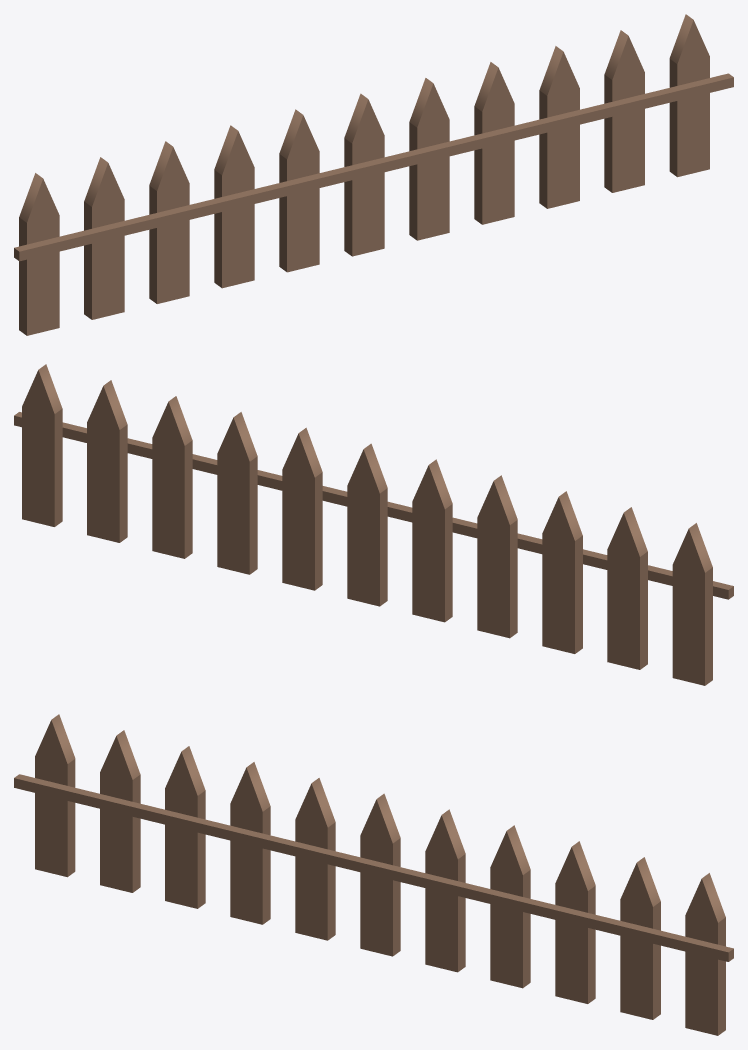
The model's file is Fences2.fbx.
The picture shows the model from 3 angles, top to bottom: view 1: azimuth 30°, elevation 25°; view 2: azimuth 150°, elevation 25°; view 3: azimuth 330°, elevation 25°; orthographic projection.
Parts seen in each view (by area): view 1: pCube24, pCube13, pCube18, pCube16, pCube17, pCube19, pCube15, pCube20, pCube21, pCube22, pCube23, pCube14; view 2: pCube15, pCube22, pCube13, pCube16, pCube18, pCube21, pCube23, pCube17, pCube19, pCube20, pCube14, pCube24; view 3: pCube24, pCube18, pCube20, pCube14, pCube17, pCube19, pCube13, pCube21, pCube15, pCube16, pCube23, pCube22.
Part boxes in pixels (x1,y1,x2,y2): pCube24: [14, 73, 733, 261]; pCube13: [19, 173, 59, 335]; pCube18: [344, 93, 384, 256]; pCube16: [214, 125, 254, 288]; pCube17: [279, 109, 319, 272]; pCube19: [409, 78, 449, 240]; pCube15: [149, 141, 189, 303]; pCube20: [474, 62, 514, 224]; pCube21: [539, 46, 579, 208]; pCube22: [604, 30, 644, 192]; pCube23: [669, 14, 709, 177]; pCube14: [84, 157, 124, 319]; pCube15: [542, 491, 582, 653]; pCube22: [87, 380, 127, 542]; pCube13: [672, 523, 712, 685]; pCube16: [477, 475, 517, 638]; pCube18: [347, 443, 387, 606]; pCube21: [152, 396, 192, 558]; pCube23: [22, 364, 62, 526]; pCube17: [412, 459, 452, 622]; pCube19: [282, 427, 322, 590]; pCube20: [217, 412, 257, 574]; pCube14: [607, 507, 647, 669]; pCube24: [14, 412, 733, 599]; pCube24: [14, 774, 733, 961]; pCube18: [360, 793, 400, 956]; pCube20: [490, 825, 530, 988]; pCube14: [100, 730, 140, 892]; pCube17: [295, 778, 335, 940]; pCube19: [425, 809, 465, 972]; pCube13: [35, 714, 75, 877]; pCube21: [555, 841, 595, 1003]; pCube15: [165, 746, 205, 908]; pCube16: [230, 762, 270, 924]; pCube23: [685, 873, 725, 1035]; pCube22: [620, 857, 660, 1019].
Bounding box in the file's own units: 76.91 × 15.79 × 2.72.
